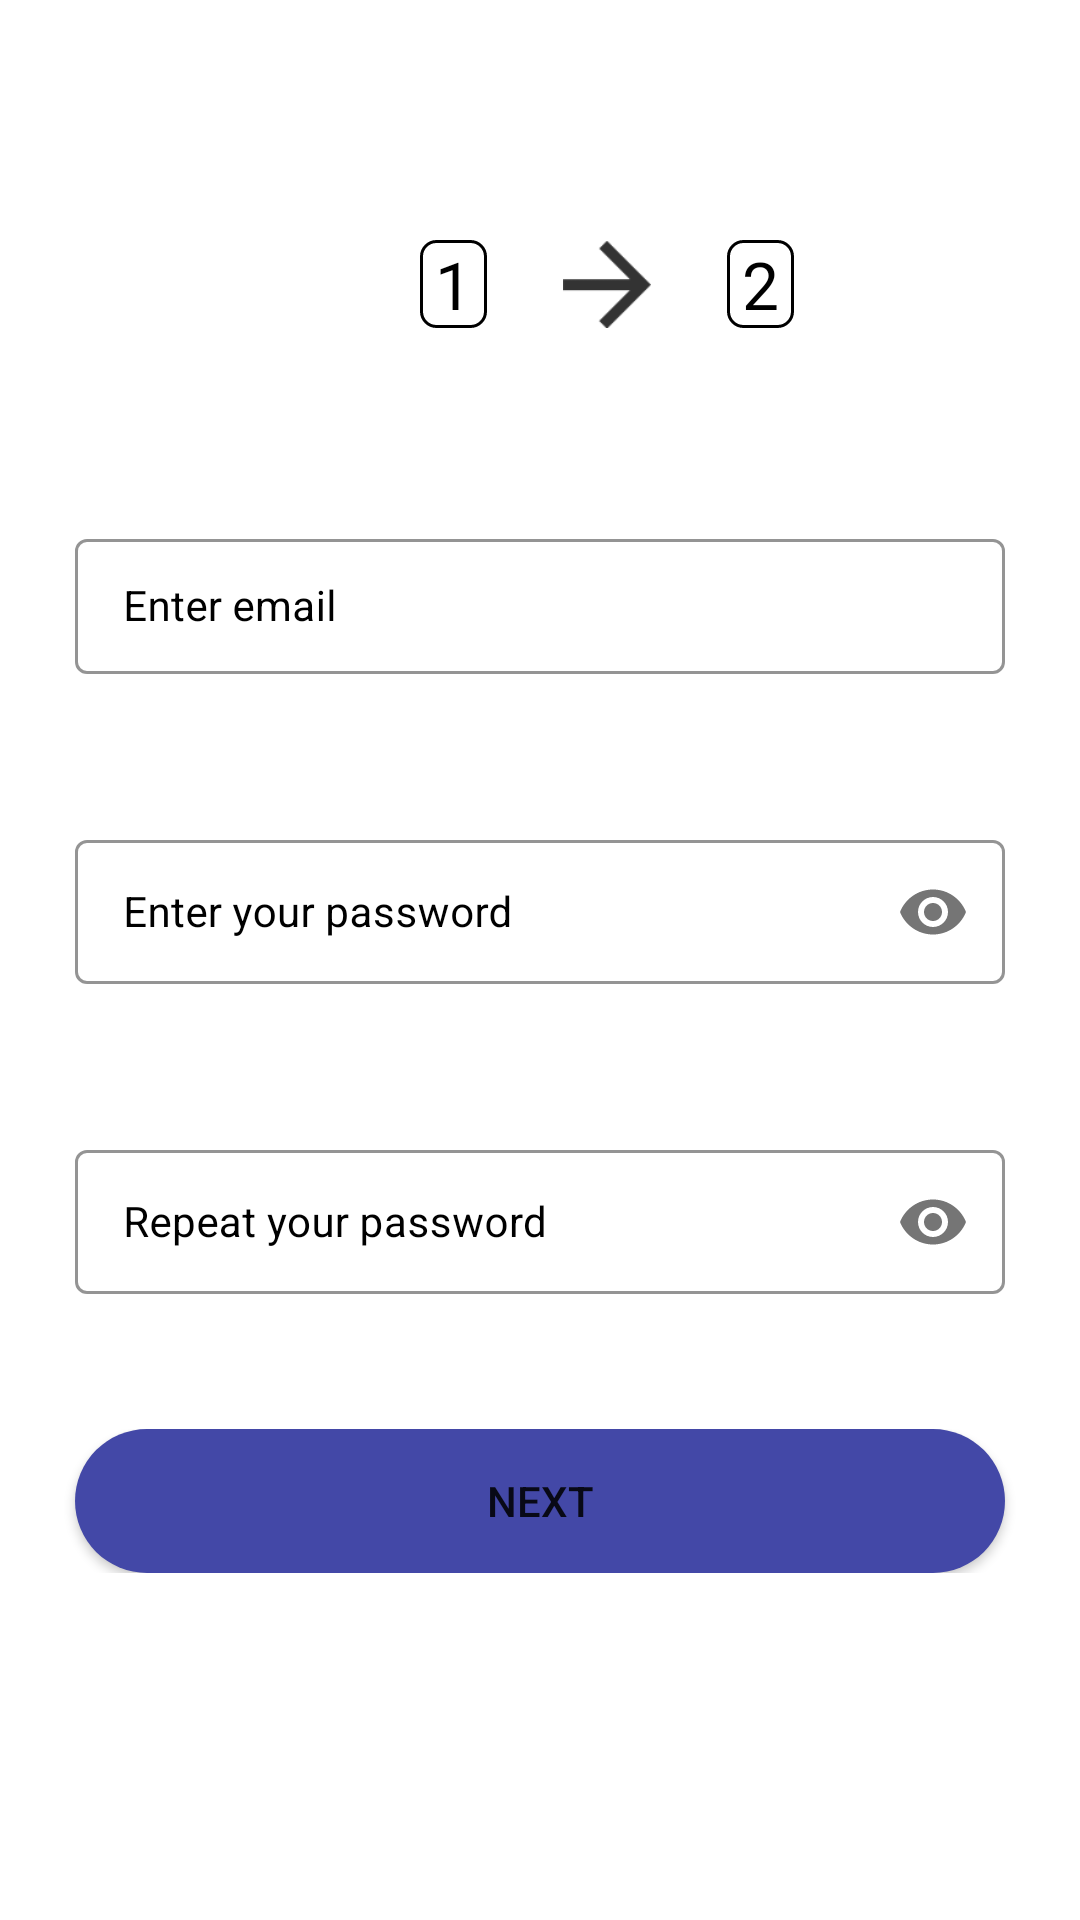

Screen size 1080 x 1920. Icon name, then its center in pixels as (x,y):
next: (607,284)
